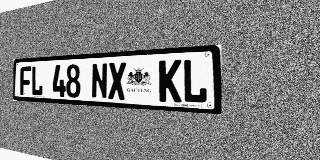4: (52, 65, 66, 97)
8: (66, 64, 80, 98)
F: (20, 66, 31, 96)
K: (159, 59, 182, 103)
L: (182, 58, 207, 104), (31, 66, 43, 96)
N: (91, 63, 108, 99)
X: (108, 62, 126, 100)
